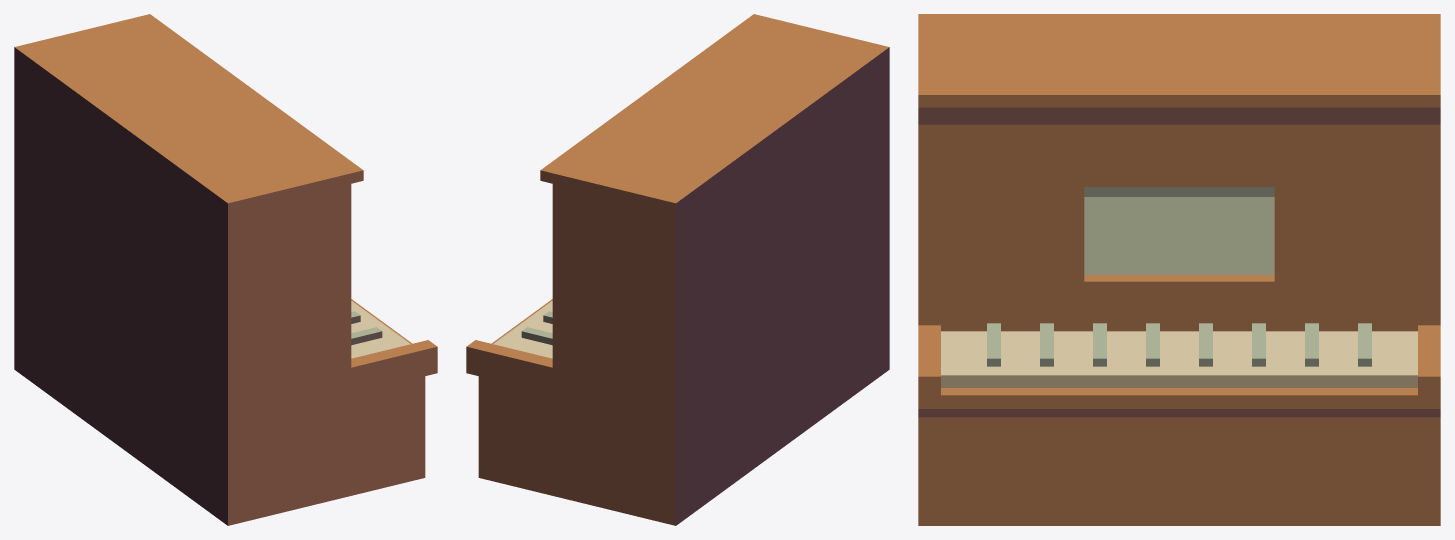
Rendered from Piano_01.FBX.
The picture shows the model from 3 angles, left to right: view 1: azimuth 30°, elevation 25°; view 2: azimuth 150°, elevation 25°; view 3: azimuth 270°, elevation 25°; orthographic projection. The views are drawn at different scales.
Parts seen in each view (by area): view 1: Box003; view 2: Box003; view 3: Box003.
Boxes of the visible parts, x1,y1,x2,y2 form: Box003: (14, 14, 437, 525); Box003: (466, 14, 889, 525); Box003: (918, 14, 1440, 525).
Bounding box in the file's own units: 85 × 125 × 150.
